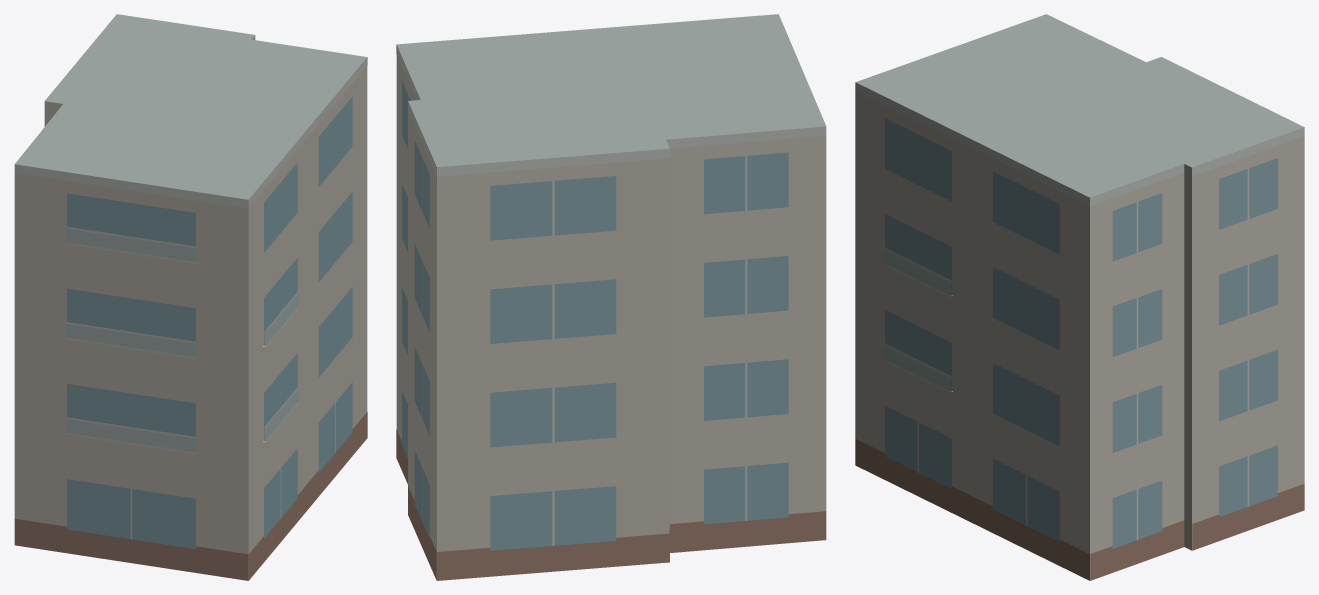
File: survey-upis-32598721.glb
The picture shows the model from 3 angles, left to right: view 1: azimuth 30°, elevation 25°; view 2: azimuth 150°, elevation 25°; view 3: azimuth 270°, elevation 25°; orthographic projection. The views are drawn at different scales.
Parts seen in each view (by area): view 1: survey-upis-32598721.tmp; view 2: survey-upis-32598721.tmp; view 3: survey-upis-32598721.tmp.
Part boxes in pixels (x1,y1,x2,y2): survey-upis-32598721.tmp: (14,14,367,580); survey-upis-32598721.tmp: (396,14,826,580); survey-upis-32598721.tmp: (855,14,1304,580).
Bounding box in the file's own units: 10.91 × 10.6 × 11.27.
